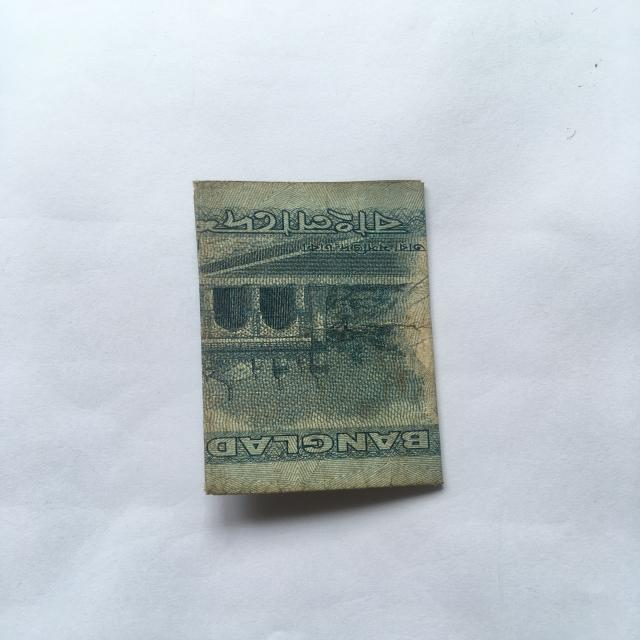Taka: (181, 168, 459, 504)
